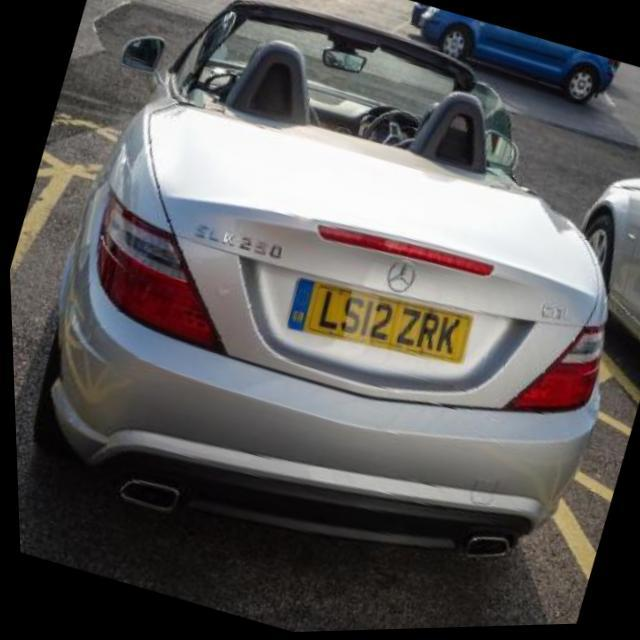license_plate: (280, 264, 474, 384)
